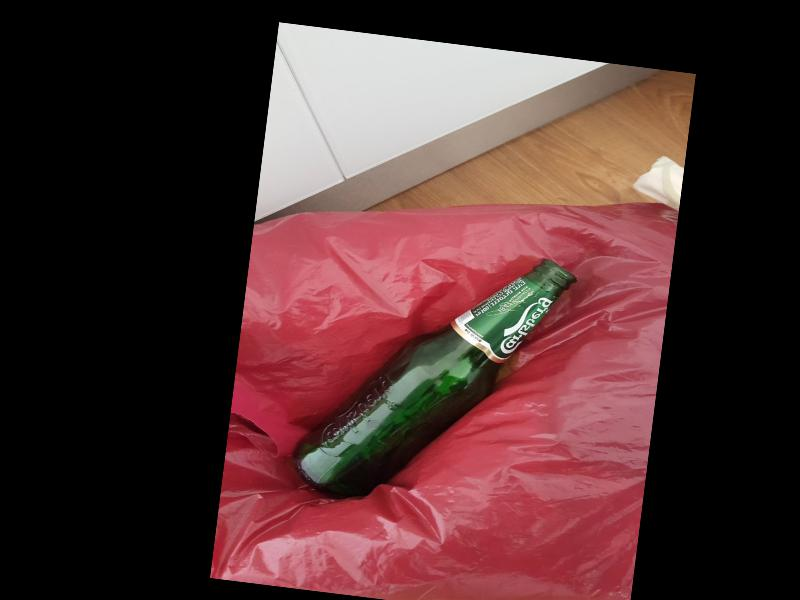Beer: (291, 231, 579, 523)
